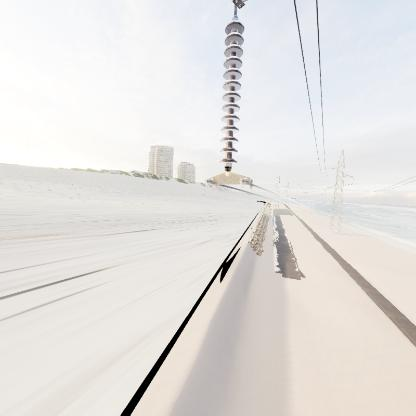insulator: (214, 19, 250, 178)
